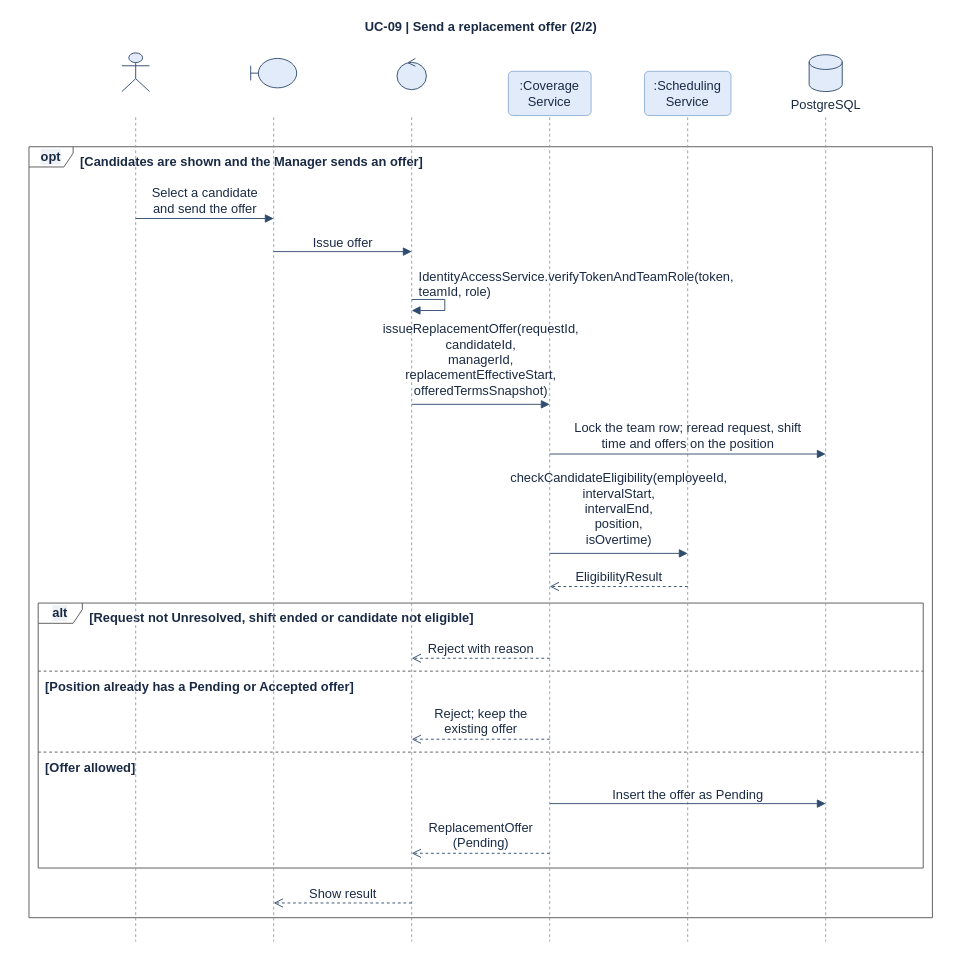
The diagram is 960 pixels wide and 959 high, and some of its shapes have lost their labels. The shapes that lost their labels are listed below. From the top down, each one's centre as x and y in pixels, then its label:
the point at 135,72: Manager
the point at 273,73: Absence and Shift Coverage S-07
the point at 411,74: Express API
